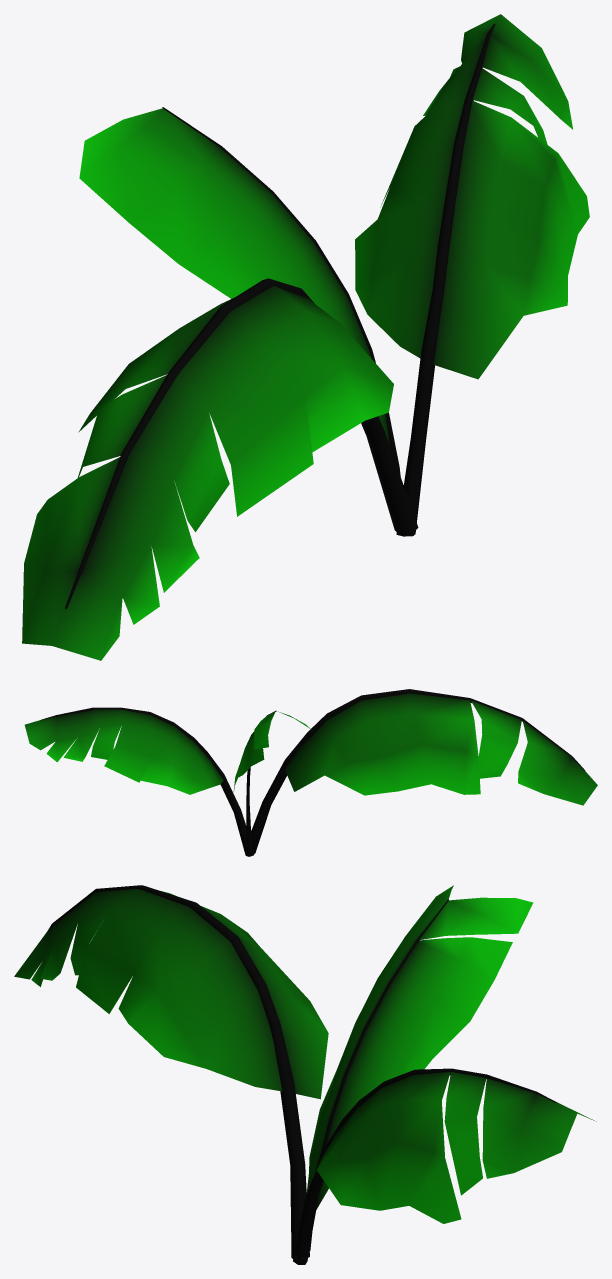
The model's file is GROUND_COVER_01.glb.
The picture shows the model from 3 angles, top to bottom: view 1: azimuth 30°, elevation 25°; view 2: azimuth 150°, elevation 25°; view 3: azimuth 270°, elevation 25°; orthographic projection. The views are drawn at different scales.
Parts seen in each view (by area): view 1: GROUND_COVER_01; view 2: GROUND_COVER_01; view 3: GROUND_COVER_01.
Boxes of the visible parts, x1=… form: GROUND_COVER_01: x1=22, y1=14, x2=589, y2=660; GROUND_COVER_01: x1=24, y1=689, x2=597, y2=856; GROUND_COVER_01: x1=14, y1=885, x2=596, y2=1264.
Bounding box in the file's own units: 3.13 × 1.43 × 2.46.
